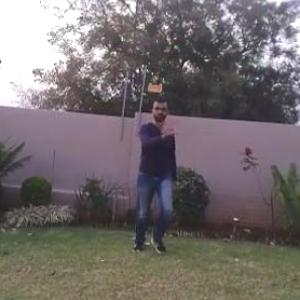follow_hand: (158, 118, 180, 141)
